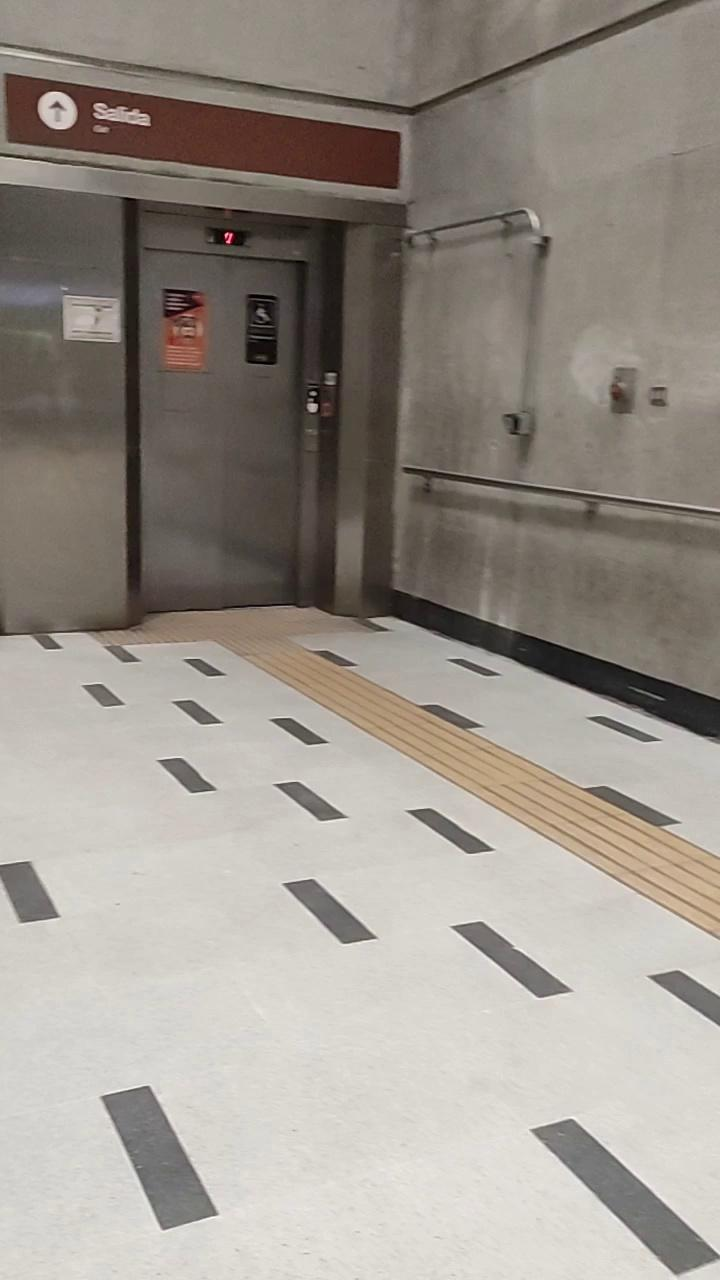handicapped symbol: (242, 287, 280, 340)
up arrow: (38, 92, 75, 132)
